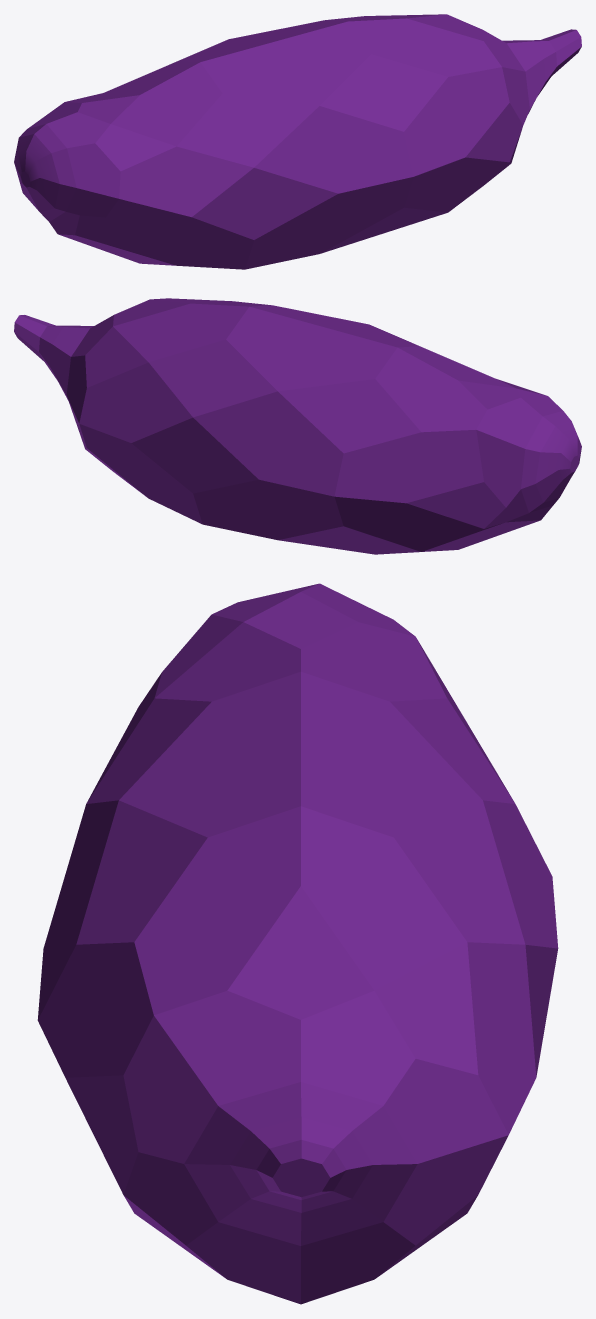
Rendered from eggplant.fbx.
3 views of the same model, one above another, from view 1: azimuth 30°, elevation 25°; view 2: azimuth 150°, elevation 25°; view 3: azimuth 270°, elevation 25° (orthographic). The views are drawn at different scales.
Visible parts, largest first — view 1: eggplant; view 2: eggplant; view 3: eggplant.
Part boxes in pixels (x1,y1,x2,y2): eggplant: [14, 14, 581, 269]; eggplant: [14, 298, 581, 554]; eggplant: [37, 583, 558, 1304].
Size of the model in its own units: 13.25 by 4.86 by 5.41.
